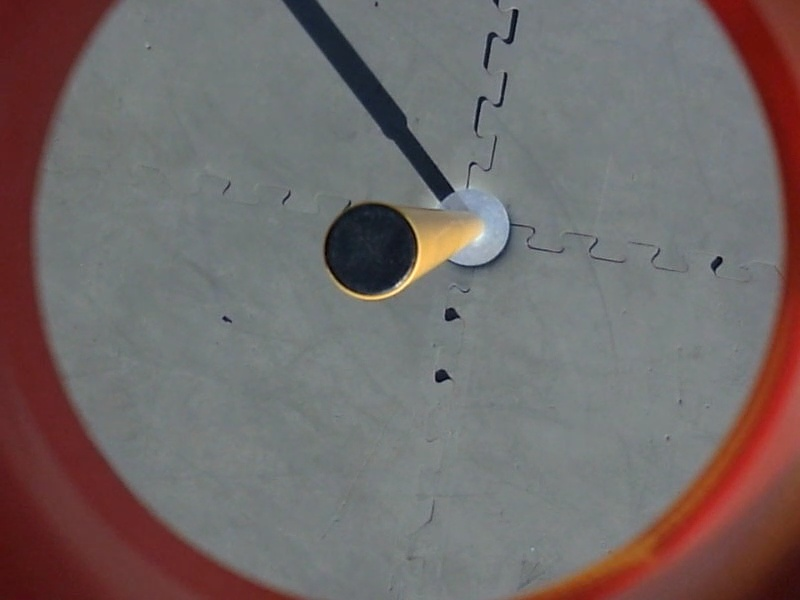tip: (321, 197, 424, 302)
